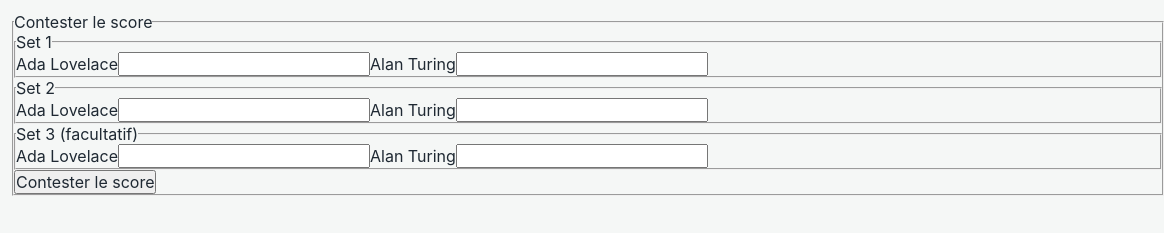
Scenario: ScoreForm › submits a score contest without sending or changing a winner
Type "4" into the number field named "Ada Lovelace, set 1".
click(244, 64); type("4")  # box [118, 52, 370, 76]
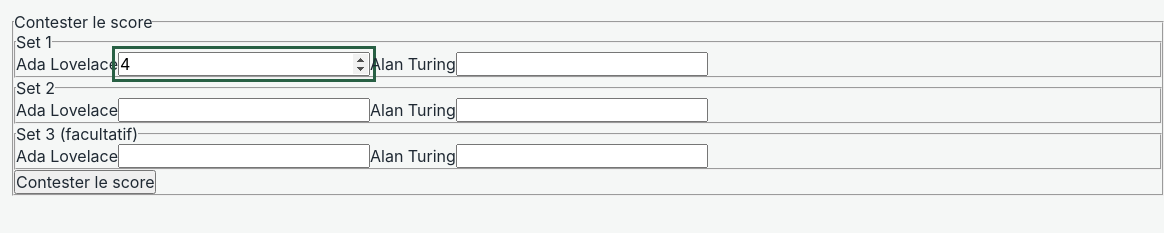
Type "6" into the number field named "Alan Turing, set 1".
click(582, 64); type("6")  # box [456, 52, 708, 76]
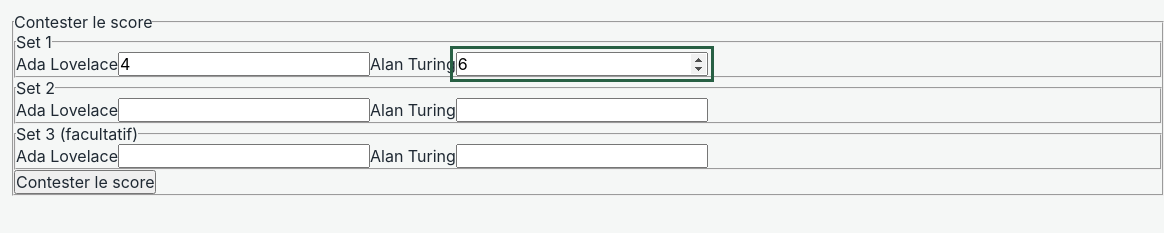
Type "3" into the number field named "Ada Lovelace, set 2".
click(244, 110); type("3")  # box [118, 98, 370, 122]
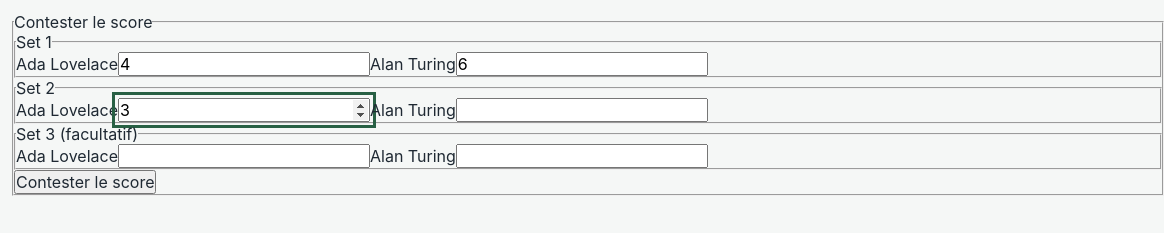
Type "6" into the number field named "Alan Turing, set 2".
click(582, 110); type("6")  # box [456, 98, 708, 122]
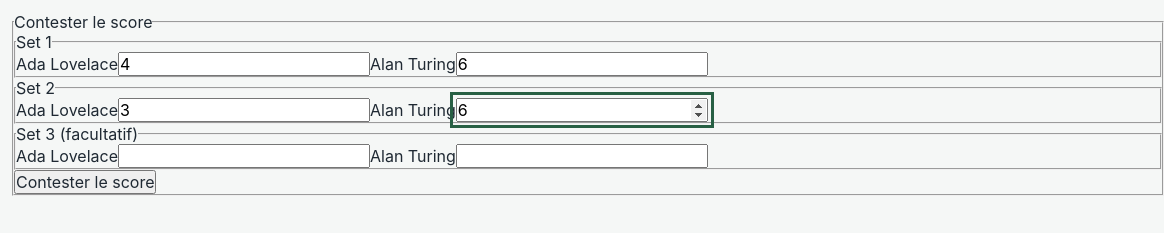
Click the button "Contester le score".
click(85, 182)  # box [14, 170, 156, 194]
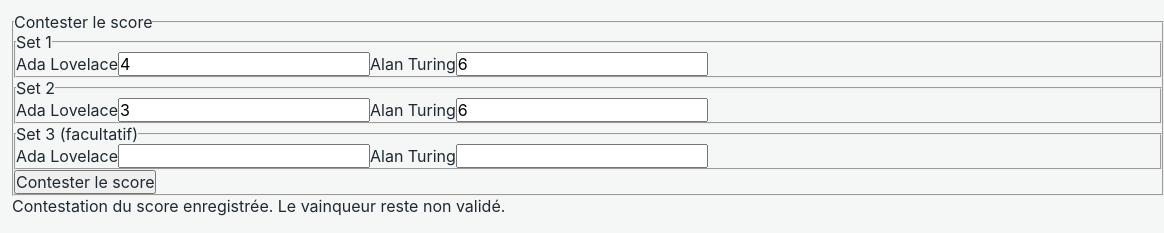
Result: the text "Contestation du score enregistrée. Le vainqueur reste non validé." is shown at [12, 196, 505, 216]
